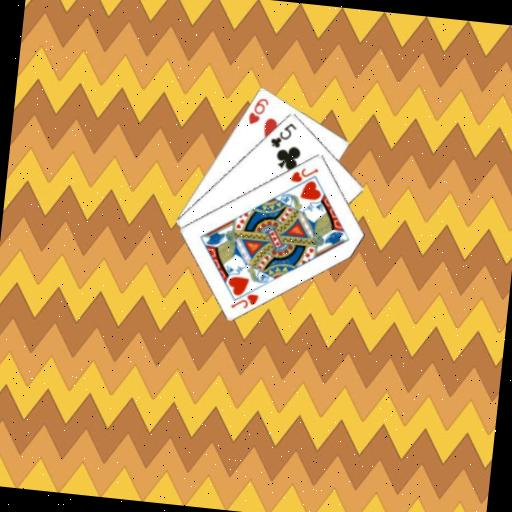5C: (267, 118, 299, 152)
6H: (245, 94, 271, 128)
JH: (288, 162, 321, 186), (228, 288, 261, 312)
